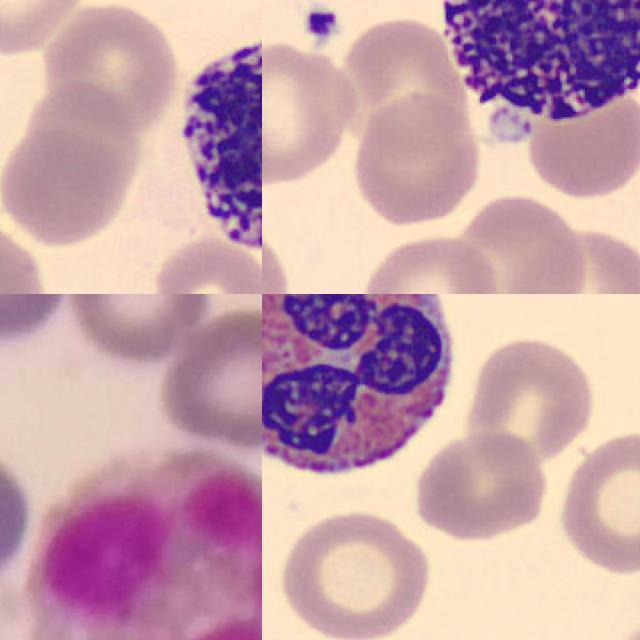Basophil: (419, 0, 640, 159), (165, 0, 262, 267)
Eosinophil: (23, 447, 262, 640), (262, 294, 466, 498)
Platelets: (299, 1, 343, 47)
RBC: (262, 120, 402, 294), (272, 505, 434, 640), (39, 0, 180, 138), (463, 331, 600, 469), (350, 89, 484, 230), (0, 124, 139, 246), (408, 428, 552, 543), (442, 191, 588, 294), (262, 36, 359, 189), (522, 82, 640, 200), (551, 426, 640, 579), (508, 221, 640, 294), (355, 230, 503, 294), (140, 234, 262, 294), (0, 0, 93, 57)
